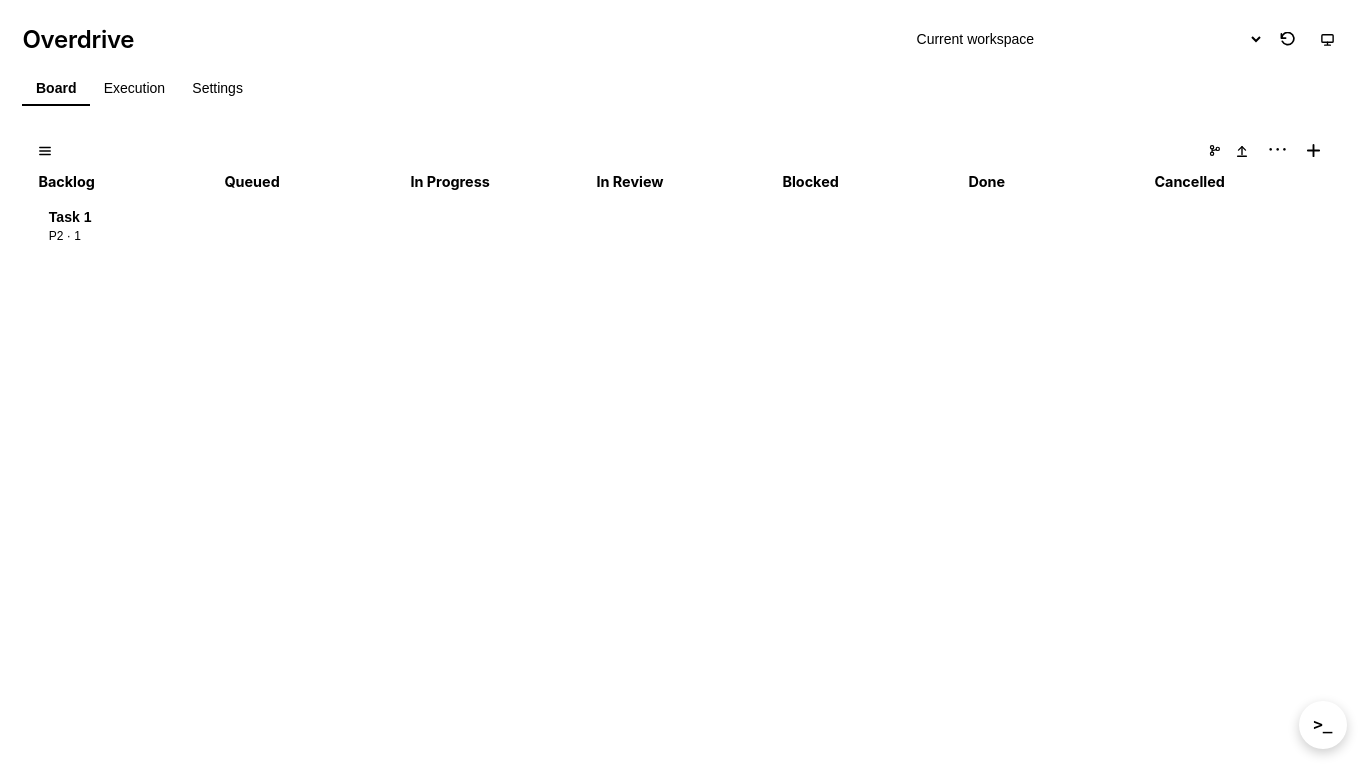
Test: App default route › renders workdoc markdown in task detail
Click the text "Task 1": (70, 217) x1=49 y1=209 x2=92 y2=225
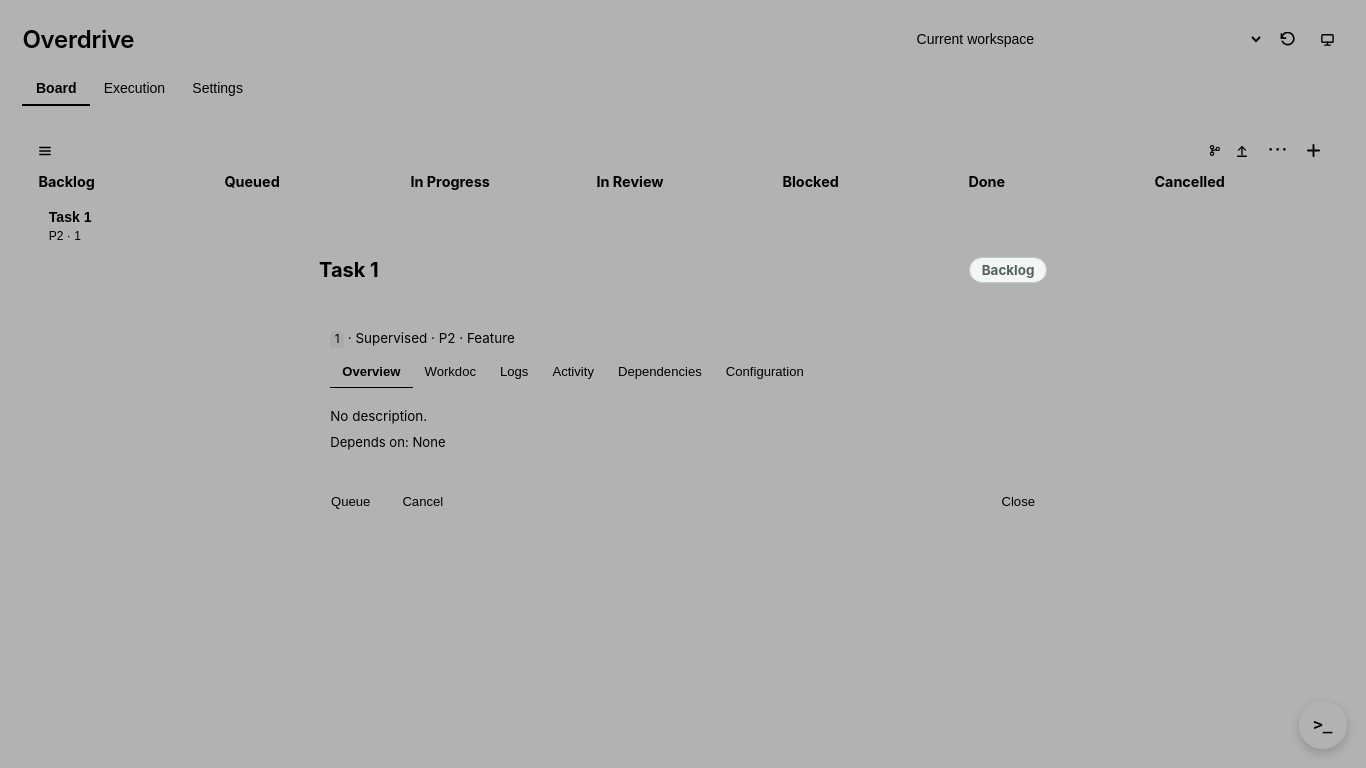
Now the button "Workdoc" is shown
Click the button "Workdoc": (450, 373) x1=412 y1=356 x2=488 y2=389
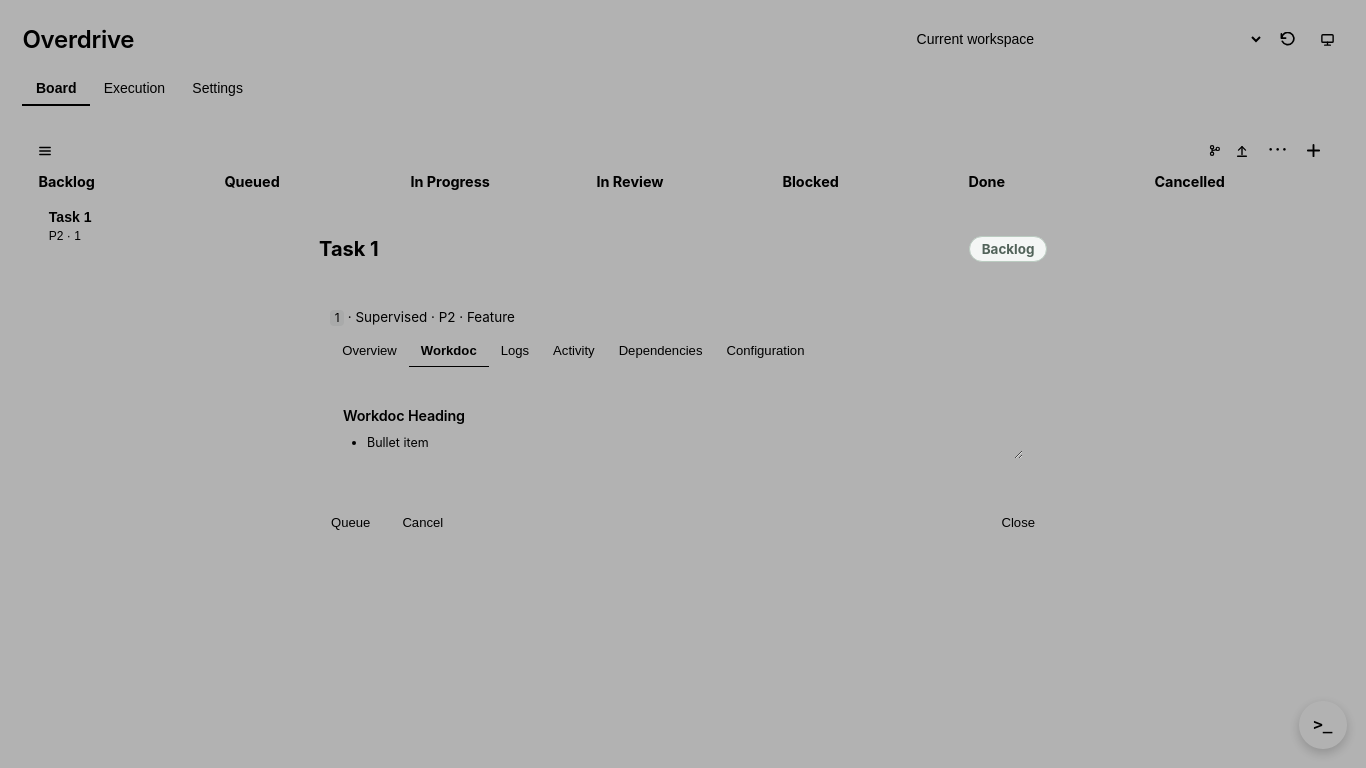
Now the heading "Workdoc Heading" is shown, box x1=343 y1=407 x2=465 y2=424
Now the list item "Bullet item" is shown, box x1=367 y1=435 x2=429 y2=450
